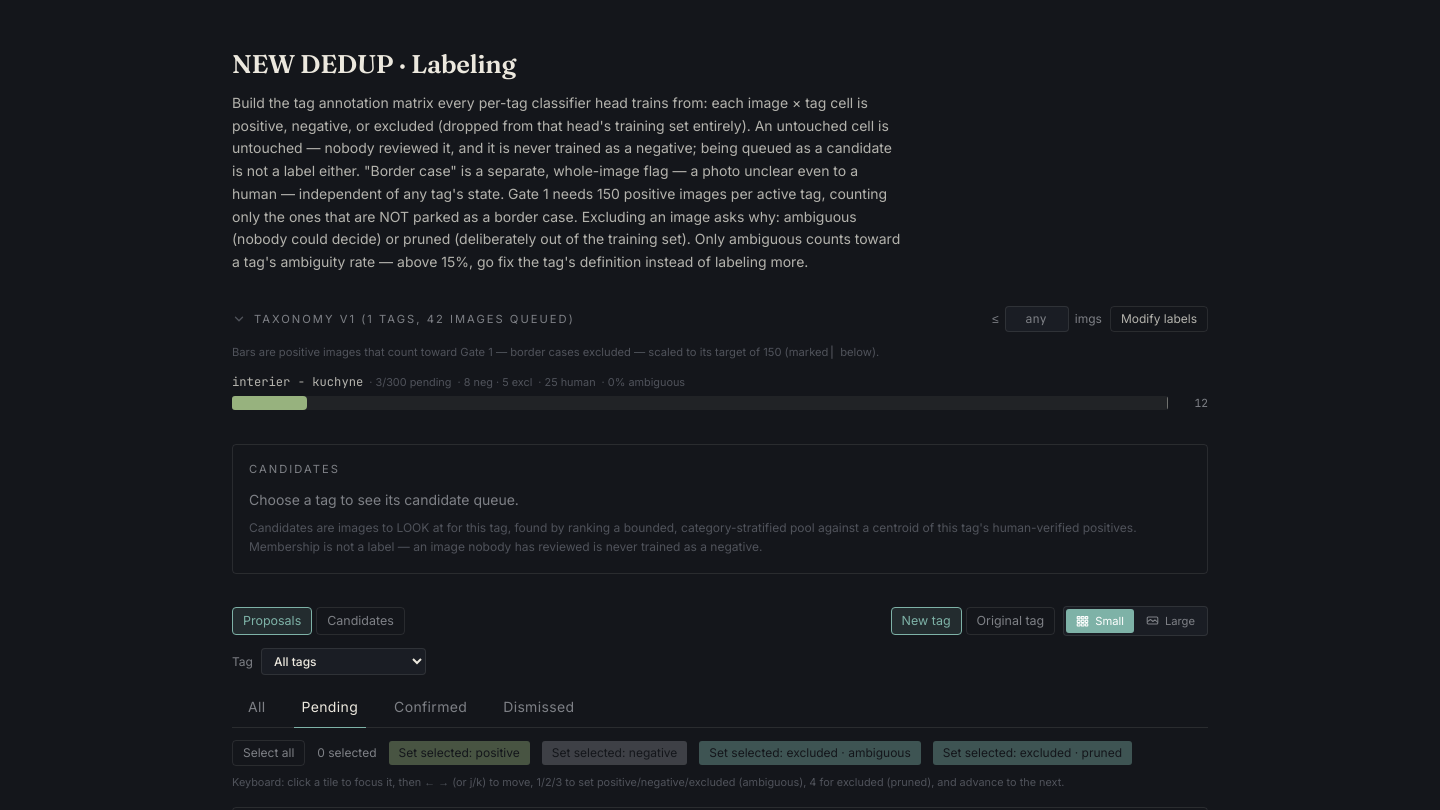
Test: <NewDedupLabeling> › removing the currently-filtered tag from the manage modal clears the filter
Click the button "interier - kuchyne" at (298, 382), box [232,373,363,391]
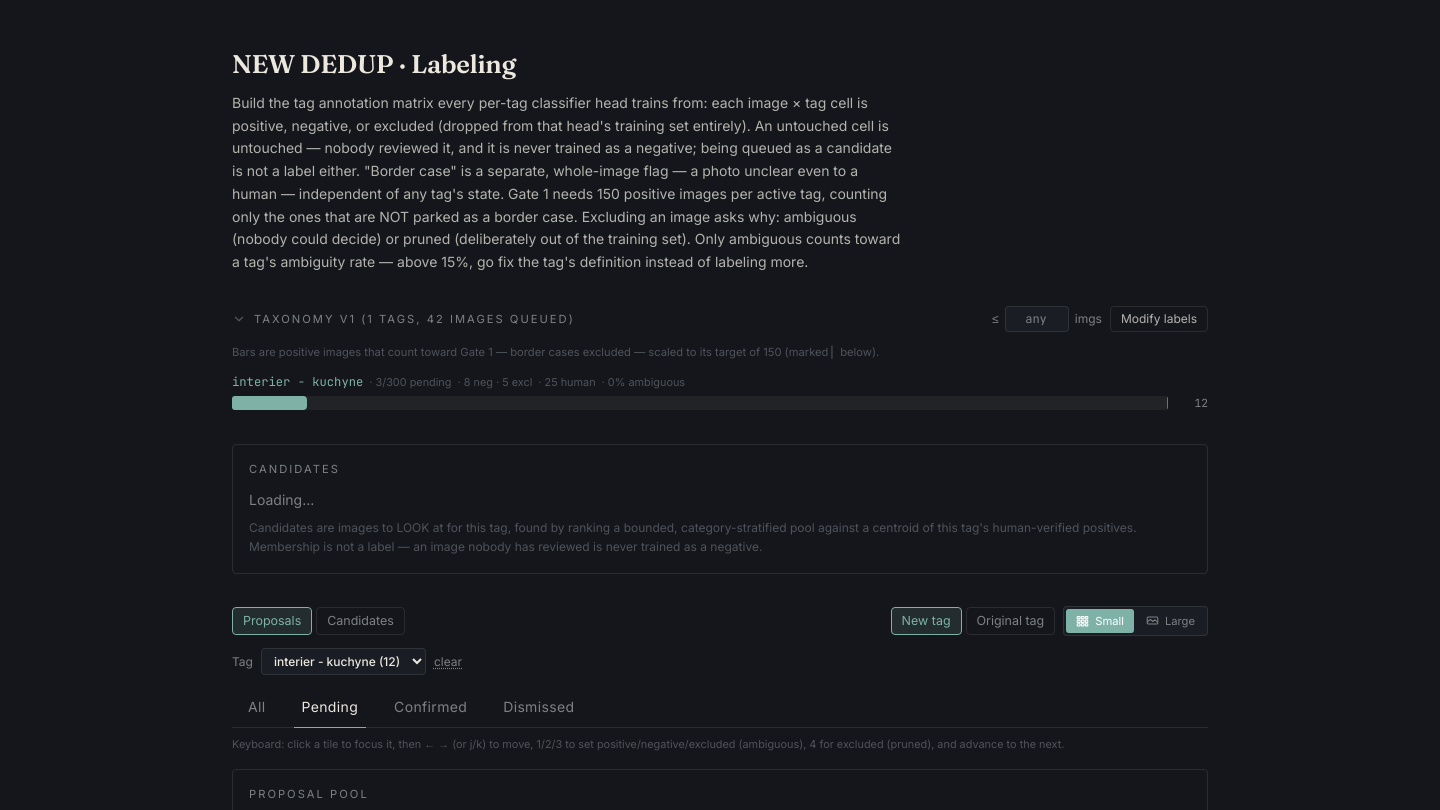
Now the dropdown labelled "Tag" shows "interier - kuchyne (12)", box [261,648,426,675]
Click the button "Modify labels" at (1159, 319), box [1110,306,1208,332]
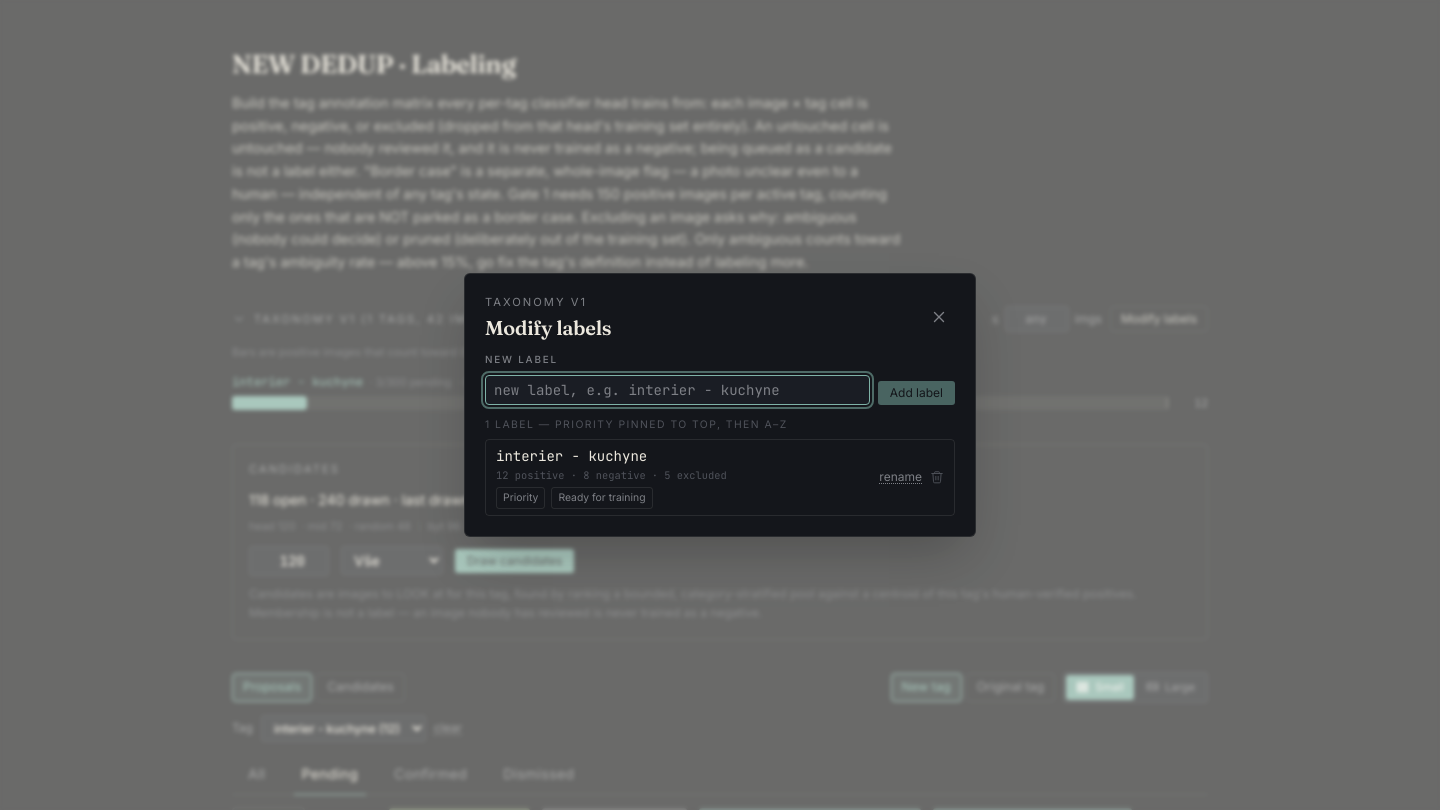
Click the button named "Remove interier - kuchyne" at (937, 477), box [930,470,944,484]
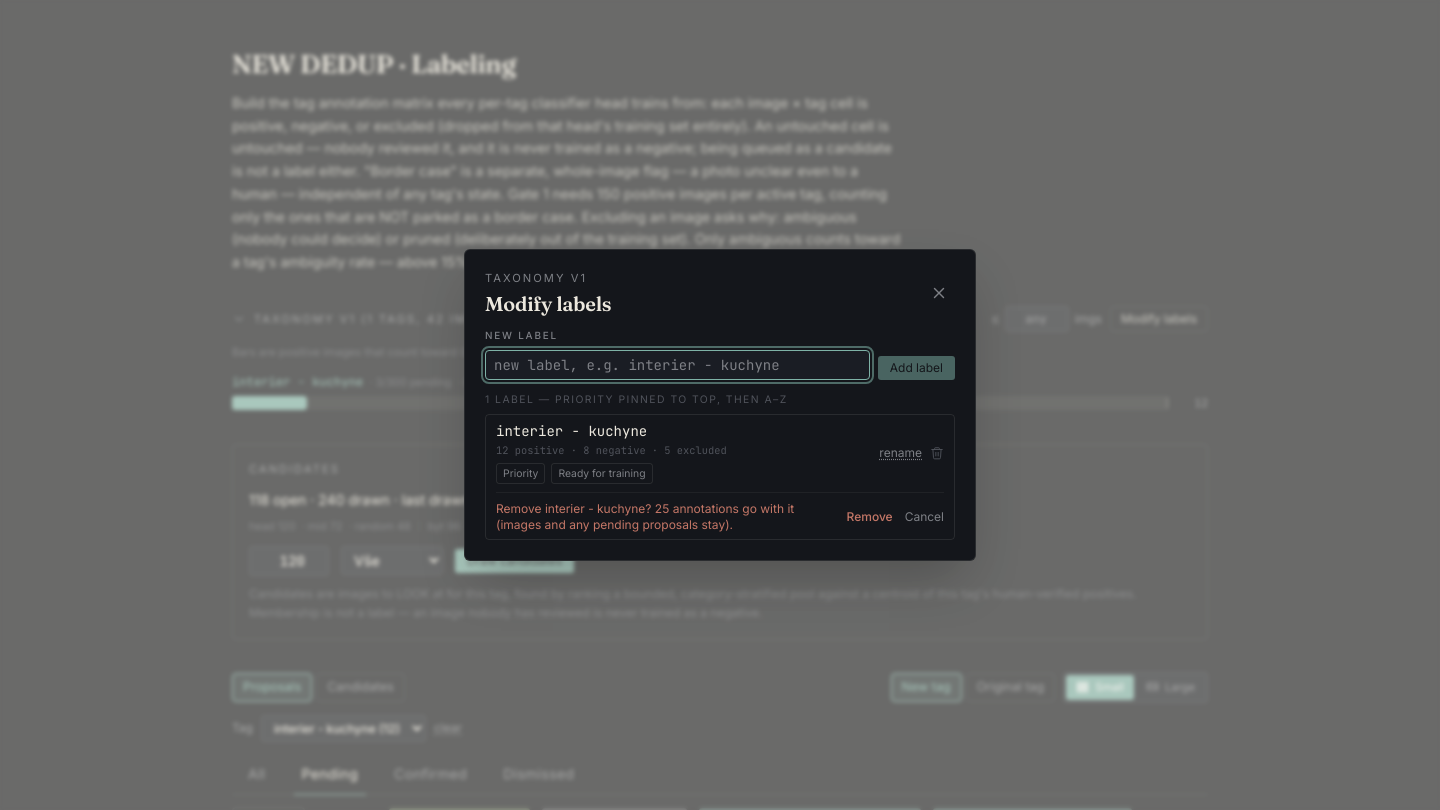
Click the button "Remove" at (870, 517), box [847,509,893,525]
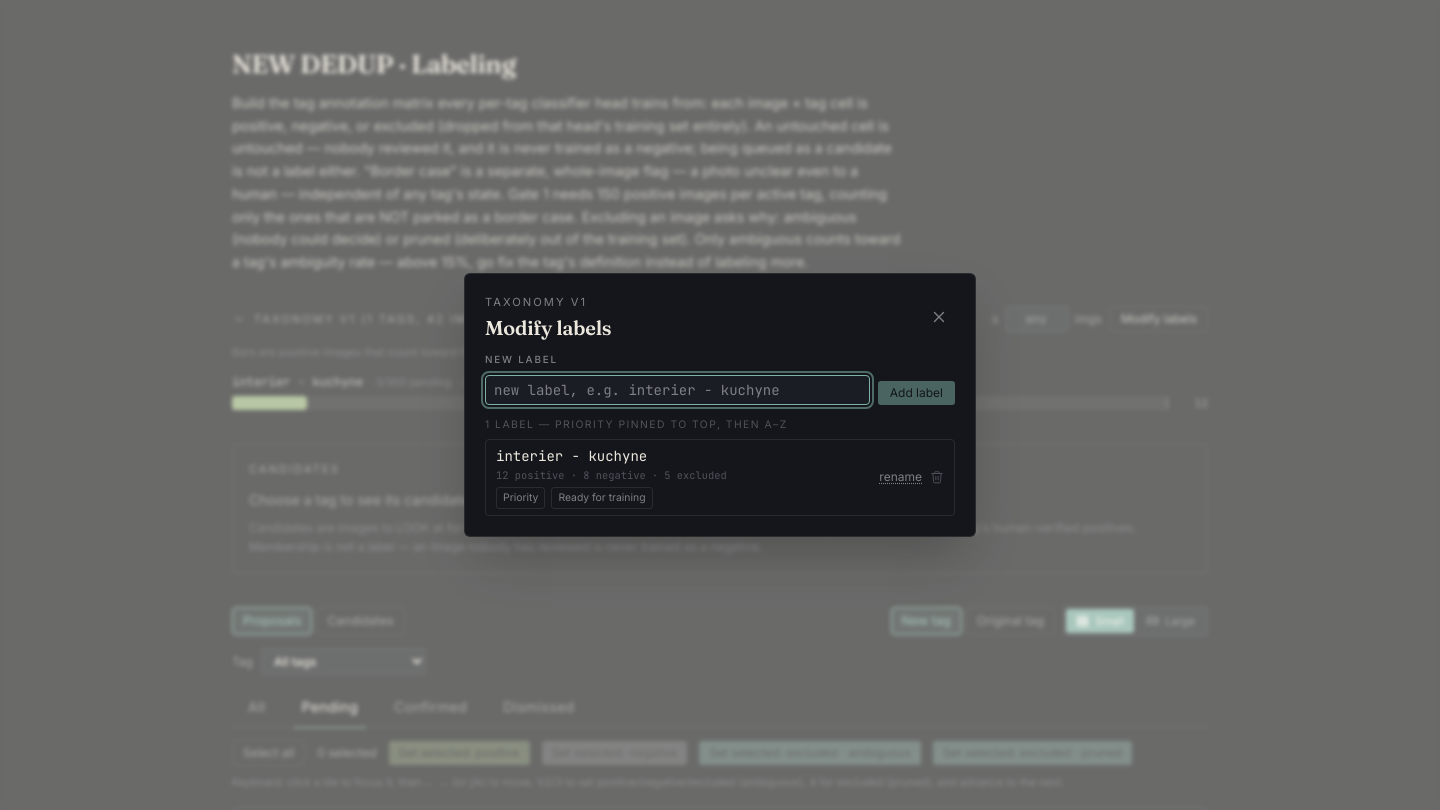
Now the dropdown labelled "Tag" shows "All tags", box [261,648,426,675]
